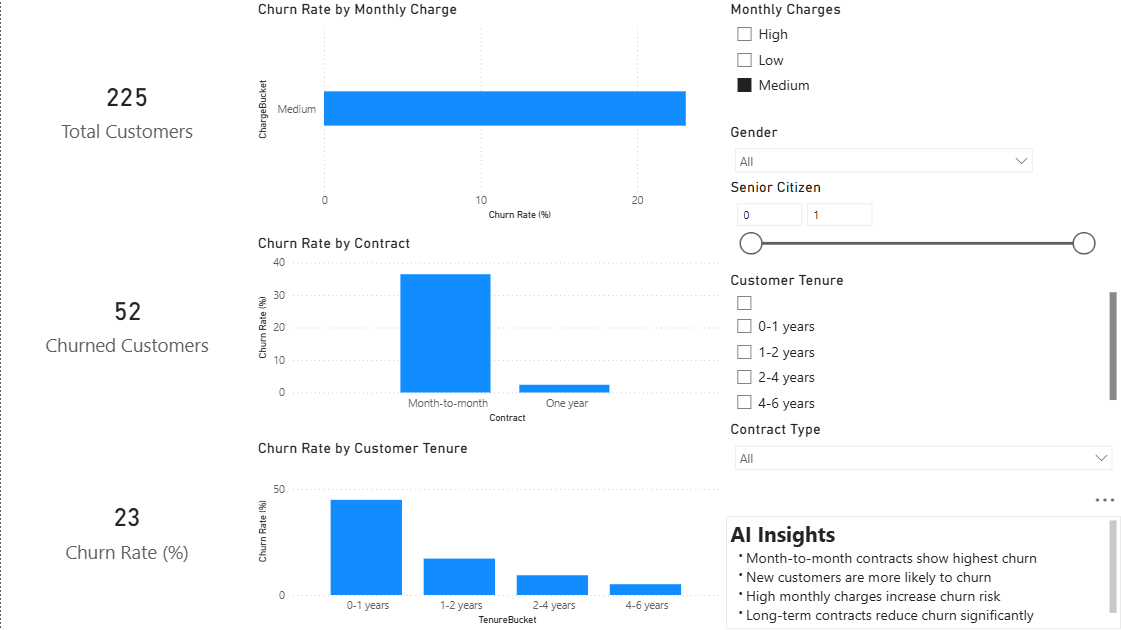

The dashboard page shown, as its layout file describes it:
{"tool":"powerbi","page":{"name":"Page 1","canvas":[1280,720],"ordinal":0},"visuals":[{"type":"card","fields":{"Values":["final_churn.Total Customers"]},"box":[0,0,288.6,247.1],"z":0},{"type":"card","fields":{"Values":["final_churn.Churned Customers"]},"box":[0,247.1,288.6,241.4],"z":1000},{"type":"card","fields":{"Values":["final_churn.Churn Rate (%)"]},"box":[0,488.6,288.6,231.4],"z":2000},{"type":"clusteredColumnChart","title":"Churn Rate by Contract","fields":{"Category":["final_churn.Contract"],"Y":["final_churn.Churn Rate (%)"]},"box":[288.6,267.1,540,221.4],"z":3000},{"type":"columnChart","title":"Churn Rate by Customer Tenure","fields":{"Category":["final_churn.TenureBucket"],"Y":["final_churn.Churn Rate (%)"]},"box":[288.6,501.4,540,218.6],"z":4000},{"type":"barChart","title":"Churn Rate by Monthly Charge","fields":{"Category":["final_churn.ChargeBucket"],"Y":["final_churn.Churn Rate (%)"]},"box":[288.6,0,540,257.1],"z":5000},{"type":"slicer","title":"Contract Type","fields":{"Values":["final_churn.Contract"]},"box":[828.6,480,451.4,110],"z":6000},{"type":"textbox","box":[828.6,590,451.4,130],"z":7000},{"type":"slicer","title":"Customer Tenure","fields":{"Values":["final_churn.TenureBucket"]},"box":[828.6,310,451.4,164.3],"z":8000},{"type":"slicer","title":"Monthly Charges","fields":{"Values":["final_churn.ChargeBucket"]},"box":[828.6,0,451.4,140],"z":9000},{"type":"slicer","title":"Senior Citizen","fields":{"Values":["final_churn.SeniorCitizen"]},"box":[828.6,202.9,430,107.1],"z":10000},{"type":"slicer","title":"Gender","fields":{"Values":["final_churn.gender"]},"box":[828.6,140,360,62.9],"z":11000}]}

Visuals, with their boxes in screenshot pixels (x1, y1, x2, y2), scaled from the page's 1280x720 canvas onto the 1121x630 screenshot:
card - final_churn.Total Customers: 0/0/253/216
card - final_churn.Churned Customers: 0/216/253/427
card - final_churn.Churn Rate (%): 0/428/253/629
"Churn Rate by Contract" clusteredColumnChart: 253/234/726/427
"Churn Rate by Customer Tenure" columnChart: 253/439/726/629
"Churn Rate by Monthly Charge" barChart: 253/0/726/225
"Contract Type" slicer: 726/420/1120/516
textbox: 726/516/1120/629
"Customer Tenure" slicer: 726/271/1120/415
"Monthly Charges" slicer: 726/0/1120/122
"Senior Citizen" slicer: 726/178/1102/271
"Gender" slicer: 726/122/1041/178
